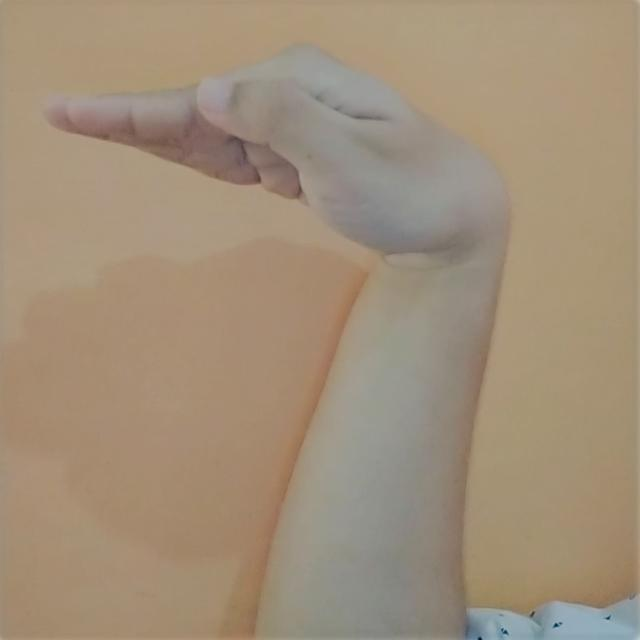Z: (36, 34, 522, 640)
